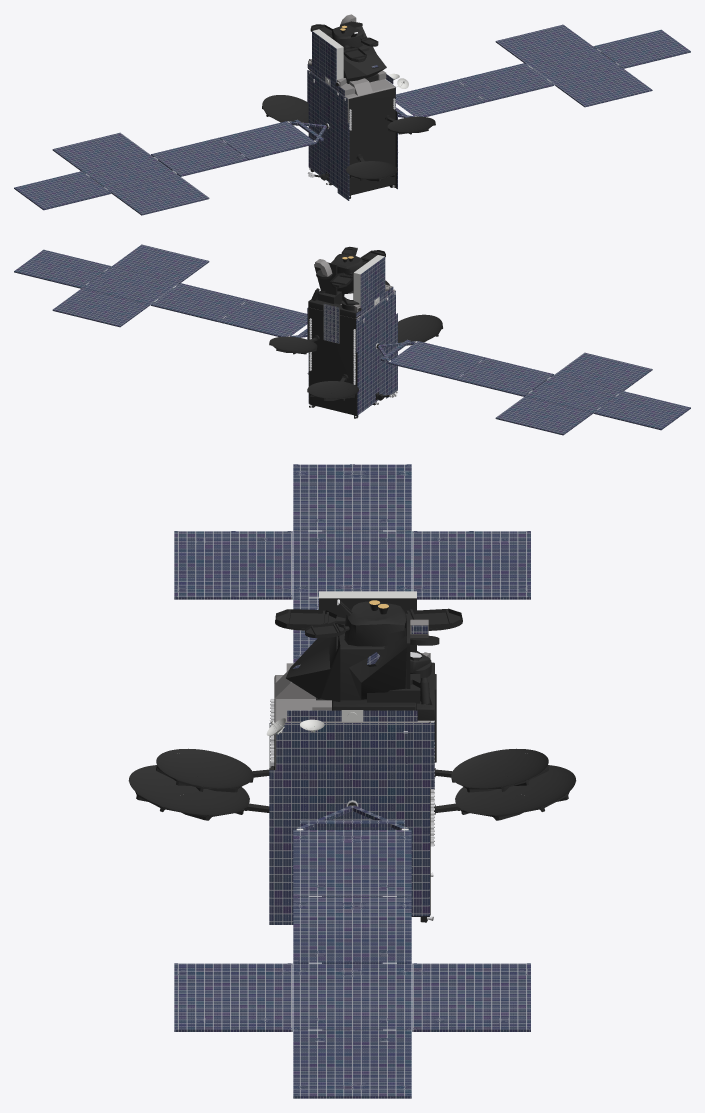
File: ssl-1300.glb
3 renders of one model, top to bottom at view 1: azimuth 30°, elevation 25°; view 2: azimuth 150°, elevation 25°; view 3: azimuth 270°, elevation 25°, orthographic. The views are drawn at different scales.
Visible parts, largest first — view 1: Empty_Mesh; view 2: Empty_Mesh; view 3: Empty_Mesh.
Boxes of the visible parts, x1,y1,x2,y2 form: Empty_Mesh: (14,14,690,215); Empty_Mesh: (14,244,690,435); Empty_Mesh: (128,464,576,1098).
Size of the model in its own units: 26.83 by 6.13 by 8.04.
Materials: 9 (1 with a texture image).
